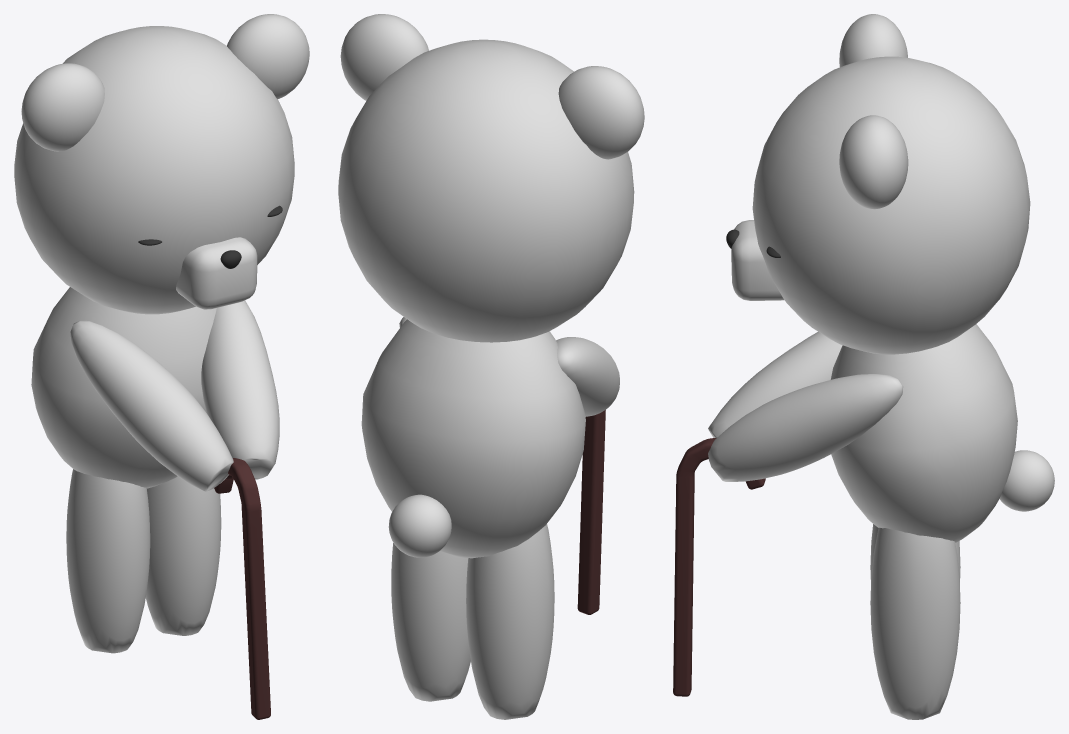
File: chief.glb
3 renders of one model, left to right at view 1: azimuth 30°, elevation 25°; view 2: azimuth 150°, elevation 25°; view 3: azimuth 270°, elevation 25°, orthographic. The views are drawn at different scales.
Visible parts, largest first — view 1: Sphere.002; view 2: Sphere.002; view 3: Sphere.002.
Part boxes in pixels (<box>): Sphere.002: <box>14,14,309,719</box>; Sphere.002: <box>338,14,644,719</box>; Sphere.002: <box>673,14,1054,719</box>.
Bounding box in the file's own units: 1.35 × 2.79 × 1.55.
